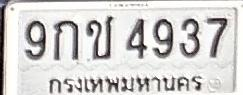3: (179, 17, 200, 58)
4: (125, 18, 147, 58)
7: (206, 16, 228, 58)
9: (25, 19, 46, 60), (152, 18, 173, 58)
A01: (52, 19, 78, 60)
A10: (85, 14, 114, 59)
BKK: (42, 71, 204, 95)
